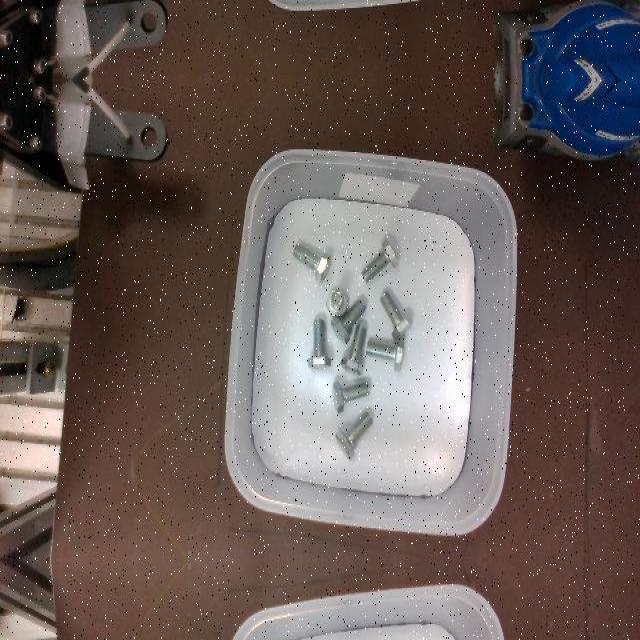screw: (335, 411, 373, 459), (380, 290, 413, 340), (361, 238, 398, 282), (330, 300, 366, 344), (293, 243, 331, 283), (339, 324, 366, 374), (332, 379, 370, 413), (365, 339, 403, 371), (307, 317, 331, 367), (325, 289, 348, 317)
